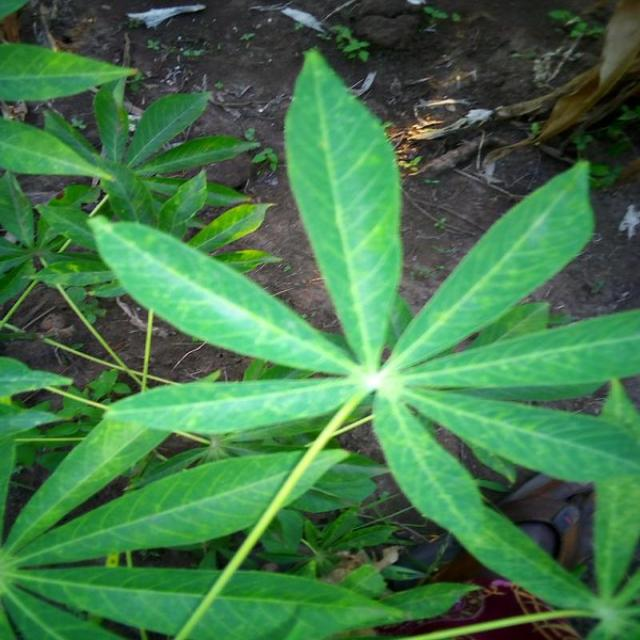cassava leaf: (3, 46, 638, 637), (86, 211, 358, 377), (282, 45, 404, 367)
